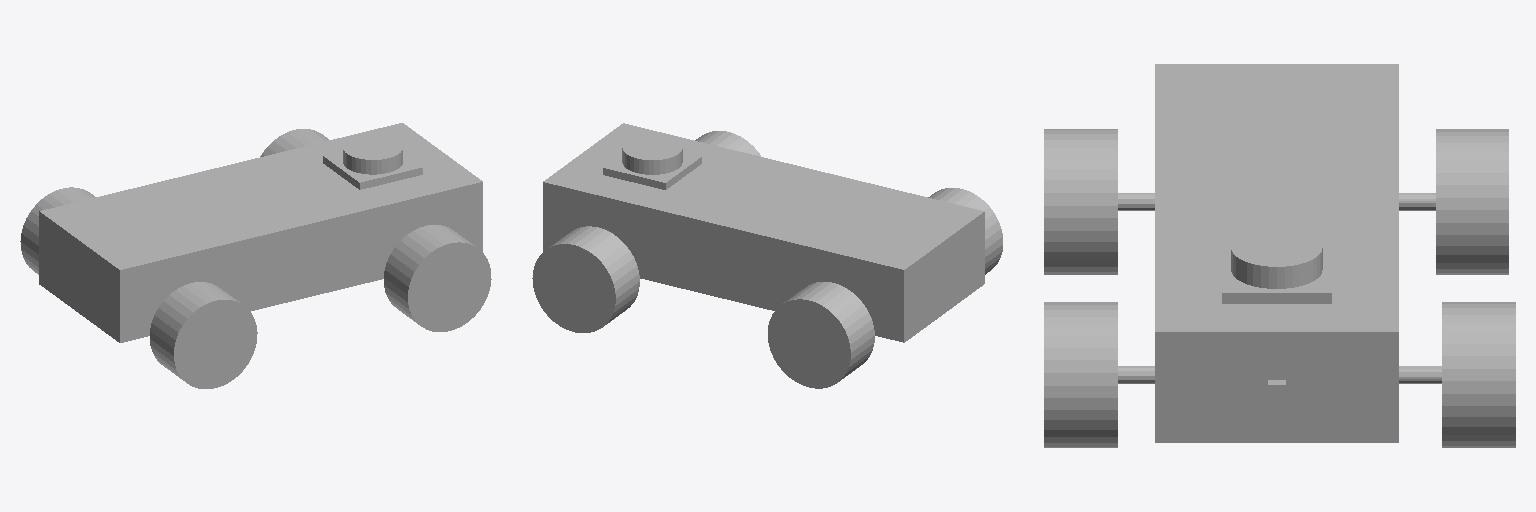
The robot description file, URDF, robot "car_description":
<?xml version="1.0" encoding="utf-8"?>
<!-- This URDF was automatically created by SolidWorks to URDF Exporter! Originally created by [author] ([email redacted]) 
     Commit Version: 1.5.1-0-g916b5db  Build Version: 1.5.7152.31018
     For more information, please see http://wiki.ros.org/sw_urdf_exporter -->
<robot
  name="car_description">
  <link
    name="base_link">
    <inertial>
      <origin
        xyz="-0.0012799 -2.2763E-18 0.04967"
        rpy="0 0 0" />
      <mass
        value="10.311" />
      <inertia
        ixx="0.04304"
        ixy="-3.6932E-18"
        ixz="0.0005894"
        iyy="0.24042"
        iyz="1.4E-19"
        izz="0.26648" />
    </inertial>
    <visual>
      <origin
        xyz="0 0 0"
        rpy="0 0 0" />
      <geometry>
        <mesh
          filename="package://car_description/meshes/base_link.STL" />
      </geometry>
      <material
        name="">
        <color
          rgba="0.75294 0.75294 0.75294 1" />
      </material>
    </visual>
    <collision>
      <origin
        xyz="0 0 0"
        rpy="0 0 0" />
      <geometry>
        <mesh
          filename="package://car_description/meshes/base_link.STL" />
      </geometry>
    </collision>
  </link>
  <link
    name="lbwheel_link">
    <inertial>
      <origin
        xyz="0 -0.00051546 1.7347E-18"
        rpy="0 0 0" />
      <mass
        value="0.68565" />
      <inertia
        ixx="0.00083283"
        ixy="-5.9331E-20"
        ixz="-2.732E-20"
        iyy="0.0012217"
        iyz="-8.3558E-21"
        izz="0.00083283" />
    </inertial>
    <visual>
      <origin
        xyz="0 0 0"
        rpy="0 0 0" />
      <geometry>
        <mesh
          filename="package://car_description/meshes/lbwheel_link.STL" />
      </geometry>
      <material
        name="">
        <color
          rgba="0.75294 0.75294 0.75294 1" />
      </material>
    </visual>
    <collision>
      <origin
        xyz="0 0 0"
        rpy="0 0 0" />
      <geometry>
        <mesh
          filename="package://car_description/meshes/lbwheel_link.STL" />
      </geometry>
    </collision>
  </link>
  <joint
    name="lbwheel_joint"
    type="continuous">
    <origin
      xyz="-0.175 0.16 0.015"
      rpy="0 0 0" />
    <parent
      link="base_link" />
    <child
      link="lbwheel_link" />
    <axis
      xyz="0 1 0" />
  </joint>
  <link
    name="rbwheel_link">
    <inertial>
      <origin
        xyz="0 0.00051546 0"
        rpy="0 0 0" />
      <mass
        value="0.68565" />
      <inertia
        ixx="0.00083283"
        ixy="1.2107E-20"
        ixz="-1.721E-20"
        iyy="0.0012217"
        iyz="-3.4783E-20"
        izz="0.00083283" />
    </inertial>
    <visual>
      <origin
        xyz="0 0 0"
        rpy="0 0 0" />
      <geometry>
        <mesh
          filename="package://car_description/meshes/rbwheel_link.STL" />
      </geometry>
      <material
        name="">
        <color
          rgba="0.75294 0.75294 0.75294 1" />
      </material>
    </visual>
    <collision>
      <origin
        xyz="0 0 0"
        rpy="0 0 0" />
      <geometry>
        <mesh
          filename="package://car_description/meshes/rbwheel_link.STL" />
      </geometry>
    </collision>
  </link>
  <joint
    name="rbwheel_joint"
    type="continuous">
    <origin
      xyz="-0.175 -0.16 0.015"
      rpy="0 0 0" />
    <parent
      link="base_link" />
    <child
      link="rbwheel_link" />
    <axis
      xyz="0 1 0" />
  </joint>
  <link
    name="lfwheel_link">
    <inertial>
      <origin
        xyz="0 -0.000515463917525771 0"
        rpy="0 0 0" />
      <mass
        value="0.685652596645972" />
      <inertia
        ixx="0.000832831974251694"
        ixy="-1.18757953331747E-20"
        ixz="-1.58578700929054E-36"
        iyy="0.00122165002762582"
        iyz="2.14850603386636E-36"
        izz="0.000832831974251694" />
    </inertial>
    <visual>
      <origin
        xyz="0 0 0"
        rpy="0 0 0" />
      <geometry>
        <mesh
          filename="package://car_description/meshes/lfwheel_link.STL" />
      </geometry>
      <material
        name="">
        <color
          rgba="0.752941176470588 0.752941176470588 0.752941176470588 1" />
      </material>
    </visual>
    <collision>
      <origin
        xyz="0 0 0"
        rpy="0 0 0" />
      <geometry>
        <mesh
          filename="package://car_description/meshes/lfwheel_link.STL" />
      </geometry>
    </collision>
  </link>
  <joint
    name="lfwheel_joint"
    type="continuous">
    <origin
      xyz="0.16 0.16517 0.015"
      rpy="0 0 0" />
    <parent
      link="base_link" />
    <child
      link="lfwheel_link" />
    <axis
      xyz="0 1 0" />
  </joint>
  <link
    name="rfwheel_link">
    <inertial>
      <origin
        xyz="0 0.000515463917525771 3.46944695195361E-18"
        rpy="0 0 0" />
      <mass
        value="0.685652596645972" />
      <inertia
        ixx="0.000832831974251694"
        ixy="3.05523237444948E-20"
        ixz="1.11388141286391E-20"
        iyy="0.00122165002762582"
        iyz="-6.07509254123777E-20"
        izz="0.000832831974251694" />
    </inertial>
    <visual>
      <origin
        xyz="0 0 0"
        rpy="0 0 0" />
      <geometry>
        <mesh
          filename="package://car_description/meshes/rfwheel_link.STL" />
      </geometry>
      <material
        name="">
        <color
          rgba="0.752941176470588 0.752941176470588 0.752941176470588 1" />
      </material>
    </visual>
    <collision>
      <origin
        xyz="0 0 0"
        rpy="0 0 0" />
      <geometry>
        <mesh
          filename="package://car_description/meshes/rfwheel_link.STL" />
      </geometry>
    </collision>
  </link>
  <joint
    name="rfwheel_joint"
    type="continuous">
    <origin
      xyz="0.16 -0.16 0.015"
      rpy="0 0 0" />
    <parent
      link="base_link" />
    <child
      link="rfwheel_link" />
    <axis
      xyz="0 1 0" />
  </joint>
  <link
    name="laser_link">
    <inertial>
      <origin
        xyz="2.7756E-17 1.8608E-19 -0.012942"
        rpy="0 0 0" />
      <mass
        value="0.25036" />
      <inertia
        ixx="0.00017163"
        ixy="-7.3468E-37"
        ixz="-1.3354E-20"
        iyy="0.00017163"
        iyz="0"
        izz="0.00028083" />
    </inertial>
    <visual>
      <origin
        xyz="0 0 0"
        rpy="0 0 0" />
      <geometry>
        <mesh
          filename="package://car_description/meshes/laser_link.STL" />
      </geometry>
      <material
        name="">
        <color
          rgba="0.75294 0.75294 0.75294 1" />
      </material>
    </visual>
    <collision>
      <origin
        xyz="0 0 0"
        rpy="0 0 0" />
      <geometry>
        <mesh
          filename="package://car_description/meshes/laser_link.STL" />
      </geometry>
    </collision>
  </link>
  <joint
    name="laser_joint"
    type="fixed">
    <origin
      xyz="0.16 0 0.12"
      rpy="0 0 0" />
    <parent
      link="base_link" />
    <child
      link="laser_link" />
    <axis
      xyz="0 0 0" />
  </joint>
  <link
    name="camera_link">
    <inertial>
      <origin
        xyz="-0.00750000000000001 -9.46049530208796E-19 -6.93889390390723E-18"
        rpy="0 0 0" />
      <mass
        value="0.003375" />
      <inertia
        ixx="1.265625E-07"
        ixy="4.32918539341672E-24"
        ixz="-2.28825950700749E-24"
        iyy="1.265625E-07"
        iyz="0"
        izz="1.265625E-07" />
    </inertial>
    <visual>
      <origin
        xyz="0 0 0"
        rpy="0 0 0" />
      <geometry>
        <mesh
          filename="package://car_description/meshes/camera_link.STL" />
      </geometry>
      <material
        name="">
        <color
          rgba="0.752941176470588 0.752941176470588 0.752941176470588 1" />
      </material>
    </visual>
    <collision>
      <origin
        xyz="0 0 0"
        rpy="0 0 0" />
      <geometry>
        <mesh
          filename="package://car_description/meshes/camera_link.STL" />
      </geometry>
    </collision>
  </link>
  <joint
    name="camera_joint"
    type="fixed">
    <origin
      xyz="0.27 0 0.05"
      rpy="0 0 0" />
    <parent
      link="base_link" />
    <child
      link="camera_link" />
    <axis
      xyz="0 0 0" />
  </joint>
</robot>

--- Facts derived from the render (not from the file) ---
3 views of the same robot in one strip: view 1: azimuth 30°, elevation 25°; view 2: azimuth 150°, elevation 25°; view 3: azimuth 270°, elevation 25° (orthographic).
Robot: car_description — 7 links, 6 joints (4 continuous, 2 fixed); root link base_link; default pose: all joints at 0.
Visible links, largest first — view 1: base_link, rfwheel_link, rbwheel_link, laser_link, lbwheel_link, lfwheel_link; view 2: base_link, lbwheel_link, lfwheel_link, laser_link, rbwheel_link, rfwheel_link; view 3: base_link, lfwheel_link, rbwheel_link, rfwheel_link, lbwheel_link, laser_link.
Boxes of the visible links, <box> form: base_link: <box>39,123,482,342</box>; rfwheel_link: <box>384,225,491,331</box>; rbwheel_link: <box>150,282,257,388</box>; laser_link: <box>323,134,422,189</box>; lbwheel_link: <box>20,187,95,274</box>; lfwheel_link: <box>260,129,328,156</box>; base_link: <box>543,123,984,342</box>; lbwheel_link: <box>768,282,874,388</box>; lfwheel_link: <box>532,226,639,332</box>; laser_link: <box>603,135,701,189</box>; rbwheel_link: <box>928,188,1002,274</box>; rfwheel_link: <box>695,131,760,156</box>; base_link: <box>1155,64,1398,442</box>; lfwheel_link: <box>1399,302,1515,447</box>; rbwheel_link: <box>1044,129,1154,274</box>; rfwheel_link: <box>1044,302,1154,447</box>; lbwheel_link: <box>1399,129,1508,274</box>; laser_link: <box>1222,228,1331,303</box>.
Bounding box of the posed robot: 0.53 × 0.3852 × 0.175 m (x, y, z).
7 mesh visuals loaded from 7 distinct referenced files (7 binary STL).